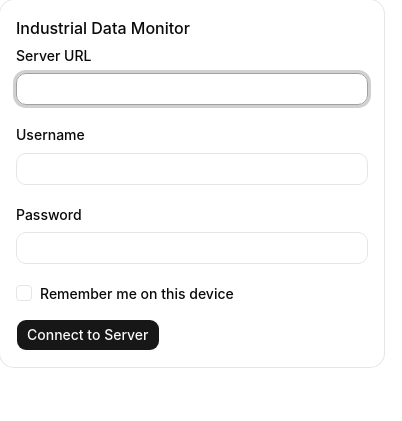
Scenario: AuthenticationForm › displays an error message when authentication fails
The image size is (402, 421).
Type "https://x" into the field with id "serverurl" at [192, 89], box [16,73,368,105]
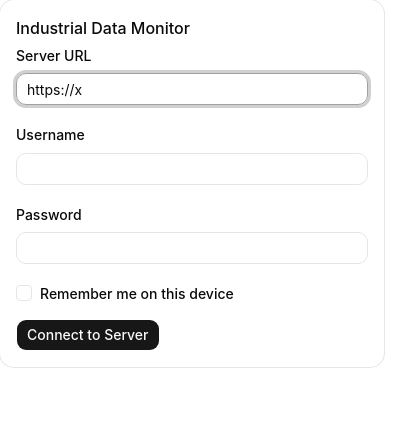
Type "bad" into the field with id "username" at [192, 168], box [16,152,368,184]
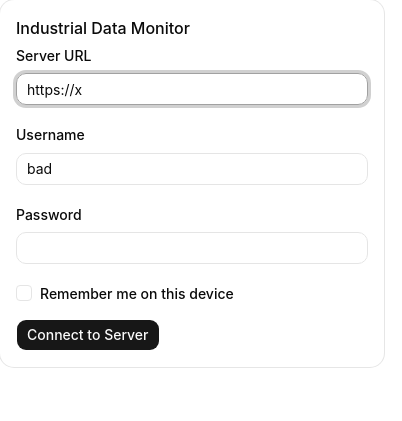
Type "pass" into the password field labelled "Password" at [192, 248], box [16,232,368,264]
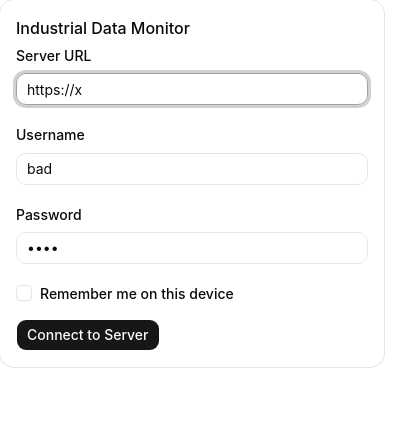
Click the button "Connect to Server" at [88, 335], box [16,319,160,351]
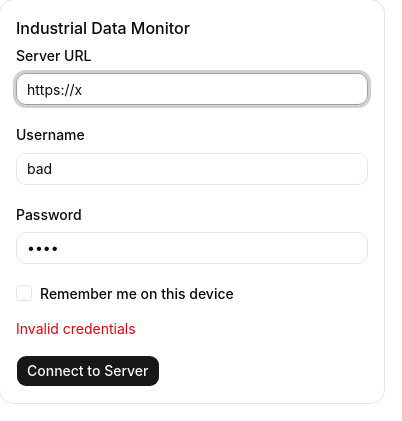
expect the message reads "Invalid credentials": met, box [16,320,136,337]
